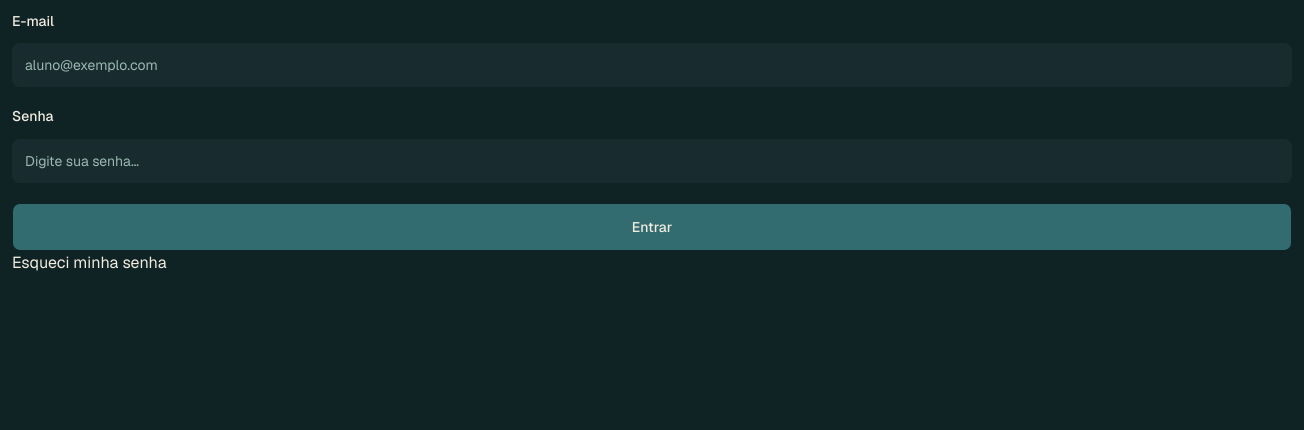
it: SignInForm › lets an unverified account explicitly request a new confirmation email
The image size is (1304, 430).
In the field with id "email": (652, 65) [12, 43, 1292, 87], type "student@example.test"
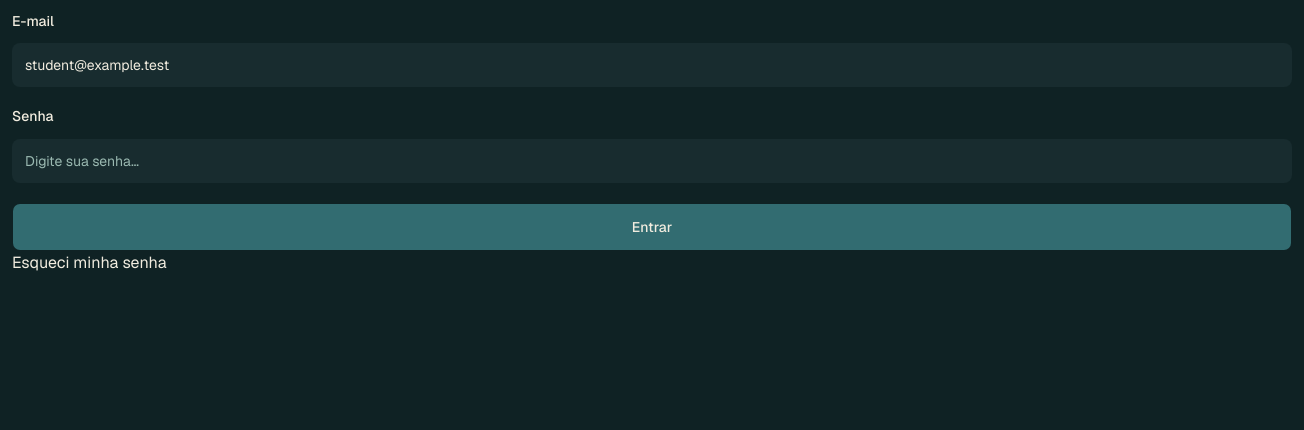
In the password field labelled "Senha": (652, 160) [12, 138, 1292, 182], type "password-123"
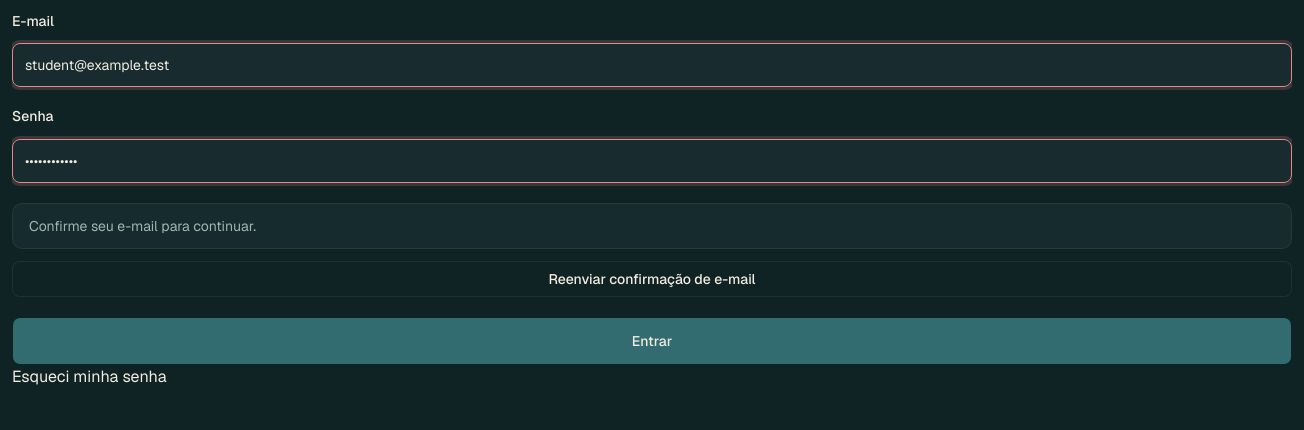
Now the button "Reenviar confirmação de e-mail" is shown
Click the button "Reenviar confirmação de e-mail": (652, 278) [12, 260, 1292, 296]
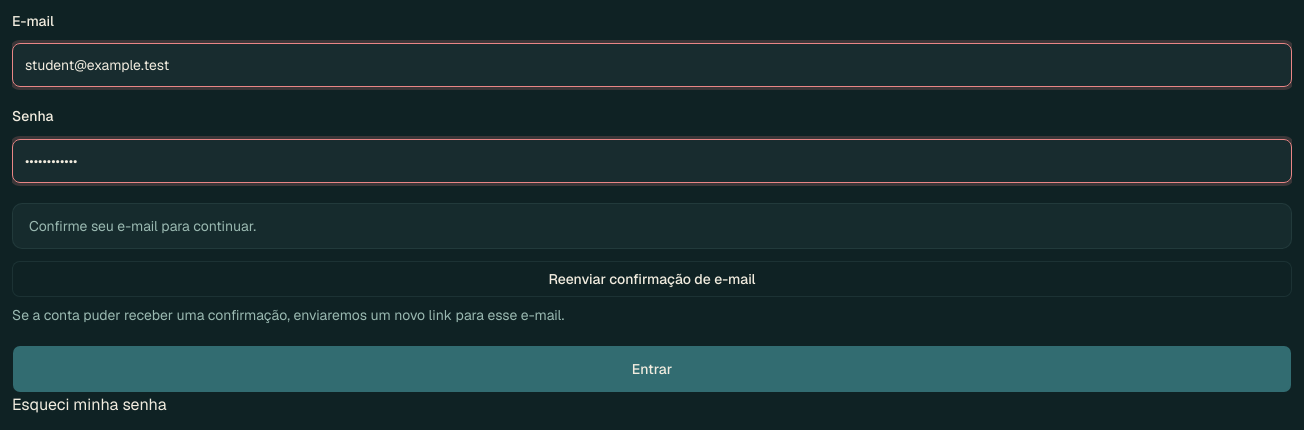
Now the text "Se a conta puder receber uma confirmação" is shown, box [12, 306, 564, 324]
